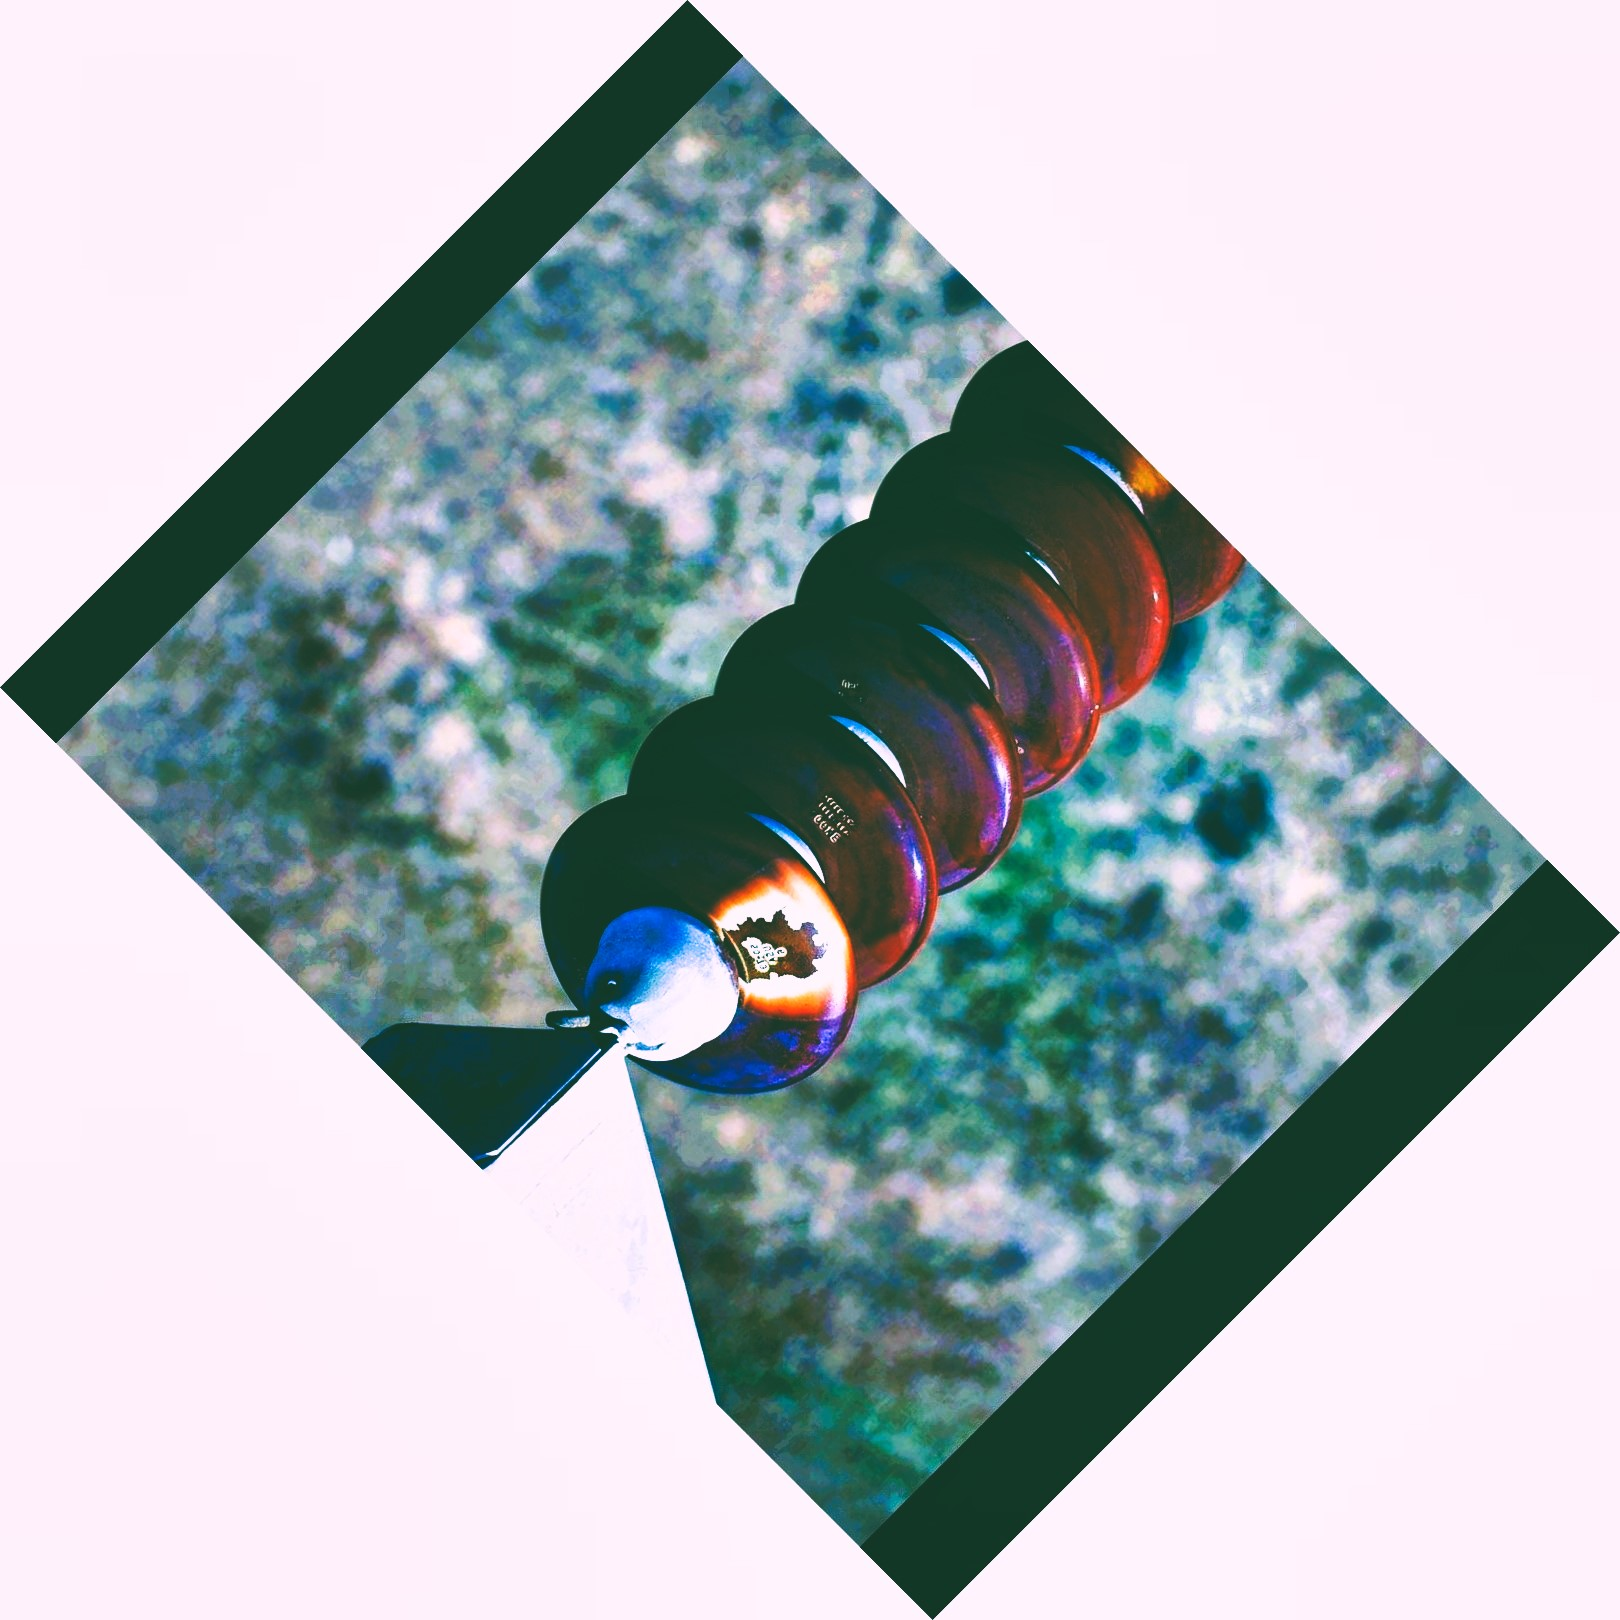Insulator flashover: (518, 779, 863, 1096)
